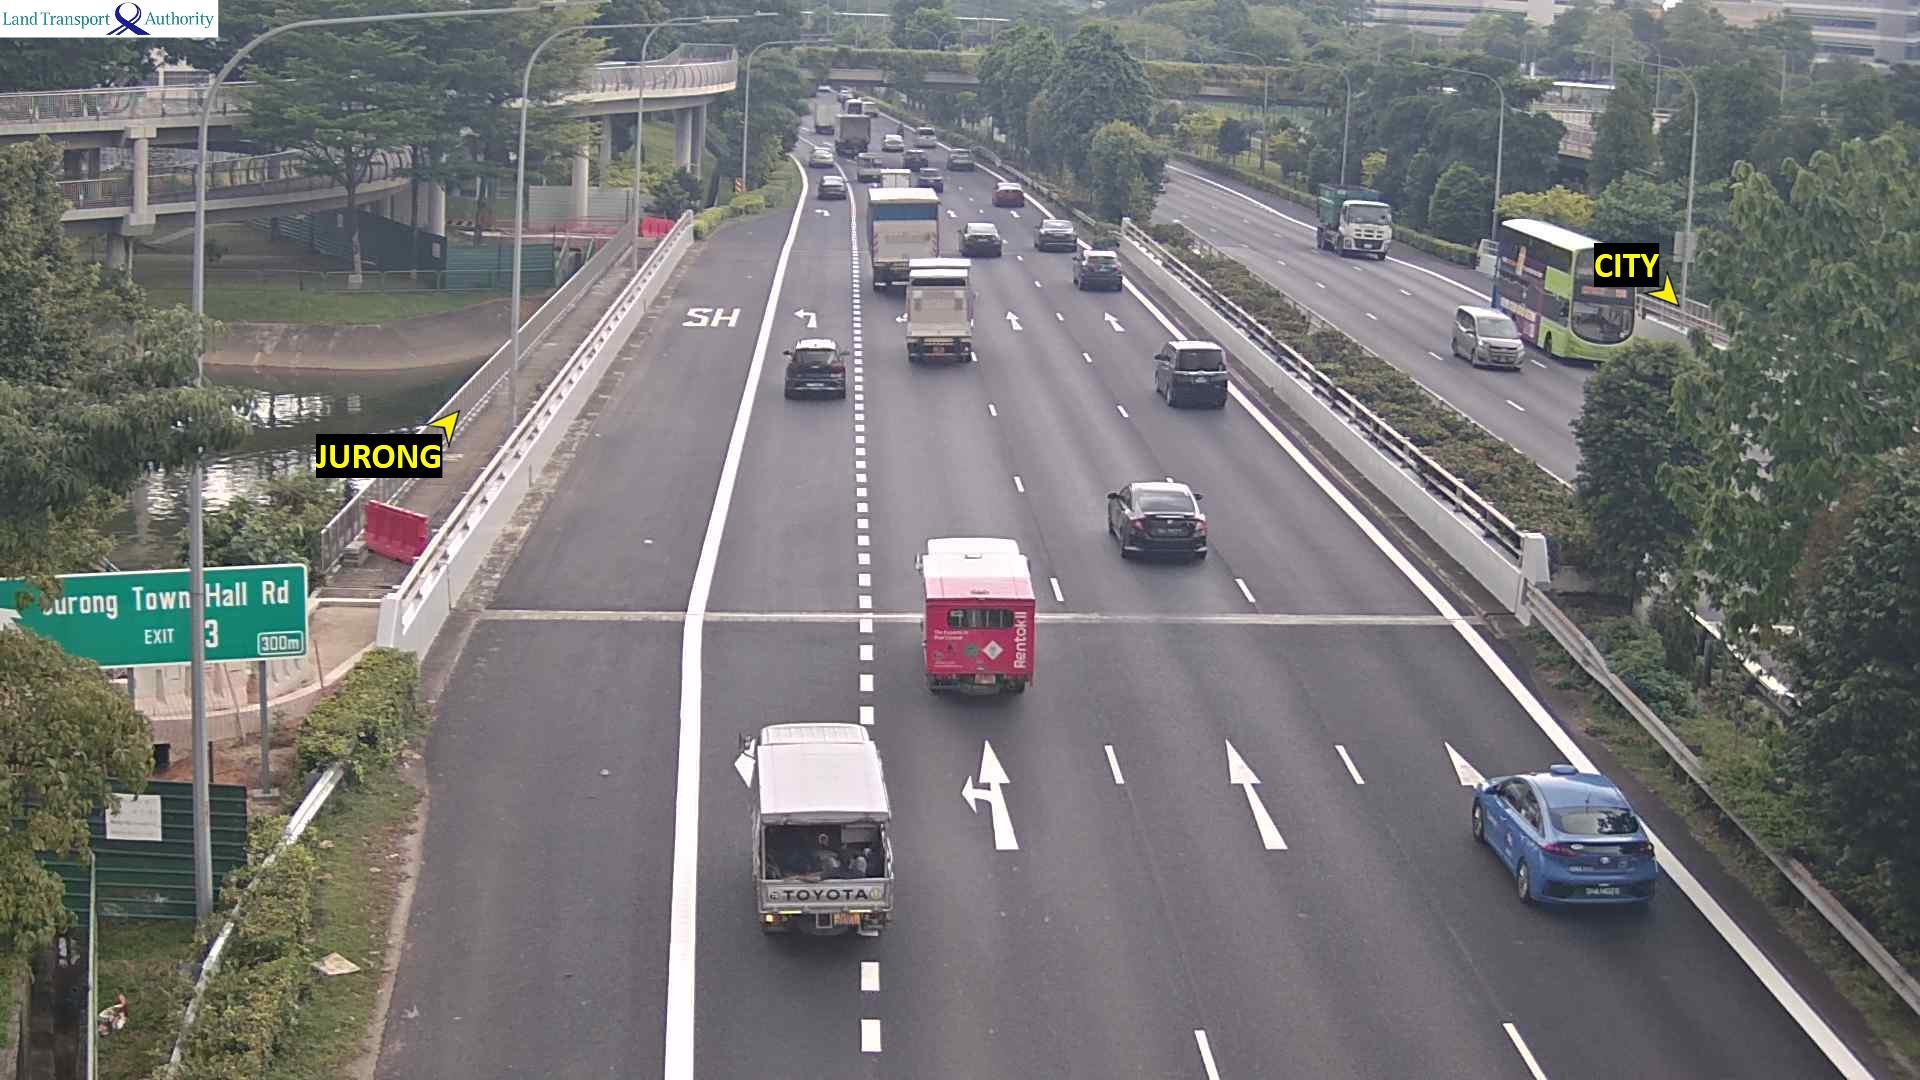bus: (1489, 216, 1656, 363)
cars: (1470, 762, 1658, 910), (1105, 476, 1208, 560), (1152, 339, 1228, 408), (1451, 304, 1525, 369), (782, 336, 846, 399), (1072, 247, 1123, 290), (958, 221, 1002, 257), (1034, 217, 1075, 250), (855, 152, 883, 182), (992, 180, 1024, 206), (916, 165, 944, 193), (817, 173, 846, 199), (946, 147, 973, 170), (809, 145, 834, 168), (912, 124, 936, 147), (901, 148, 927, 169), (1072, 238, 1093, 263), (881, 132, 904, 151)
trucks: (732, 720, 895, 939), (913, 534, 1036, 697), (895, 256, 977, 363), (865, 186, 940, 290), (1318, 179, 1394, 260), (835, 115, 875, 158), (812, 103, 845, 136), (845, 99, 863, 117), (864, 102, 884, 117)
